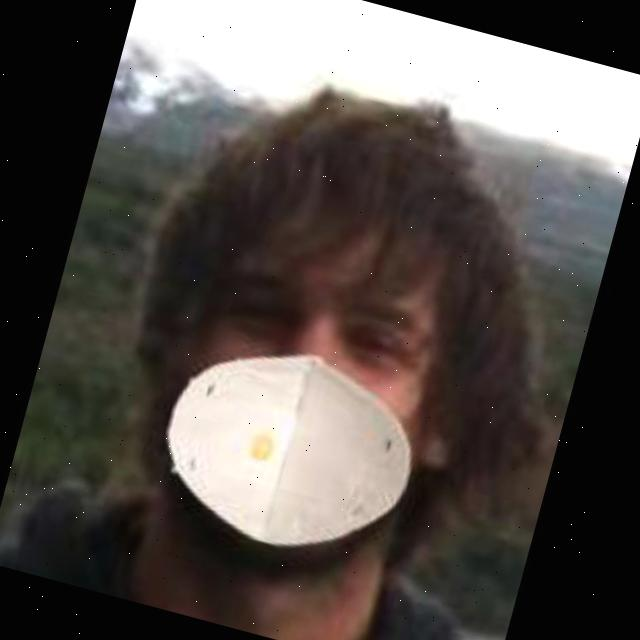suspicion: (131, 77, 541, 576)
